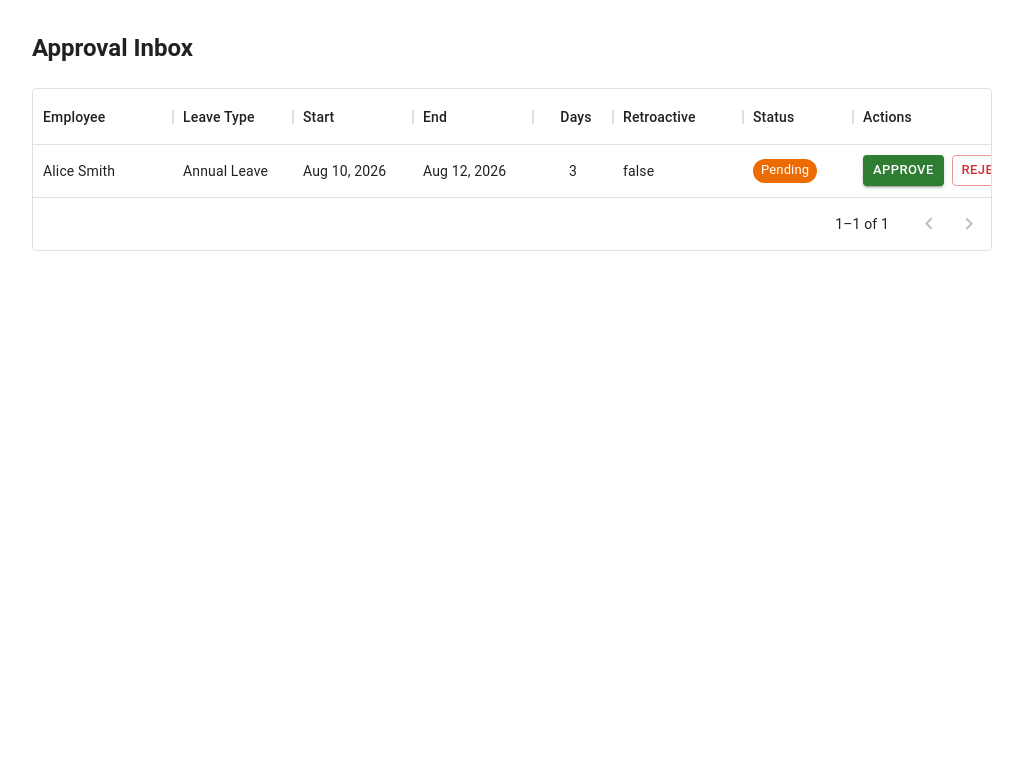
Test: UT-FE-41: Reject dialog requires a comment before submitting › opens reject dialog when Reject button is clicked
Click the button with test id "reject-btn-lr-001".
click(986, 170)  # box [952, 155, 1020, 186]
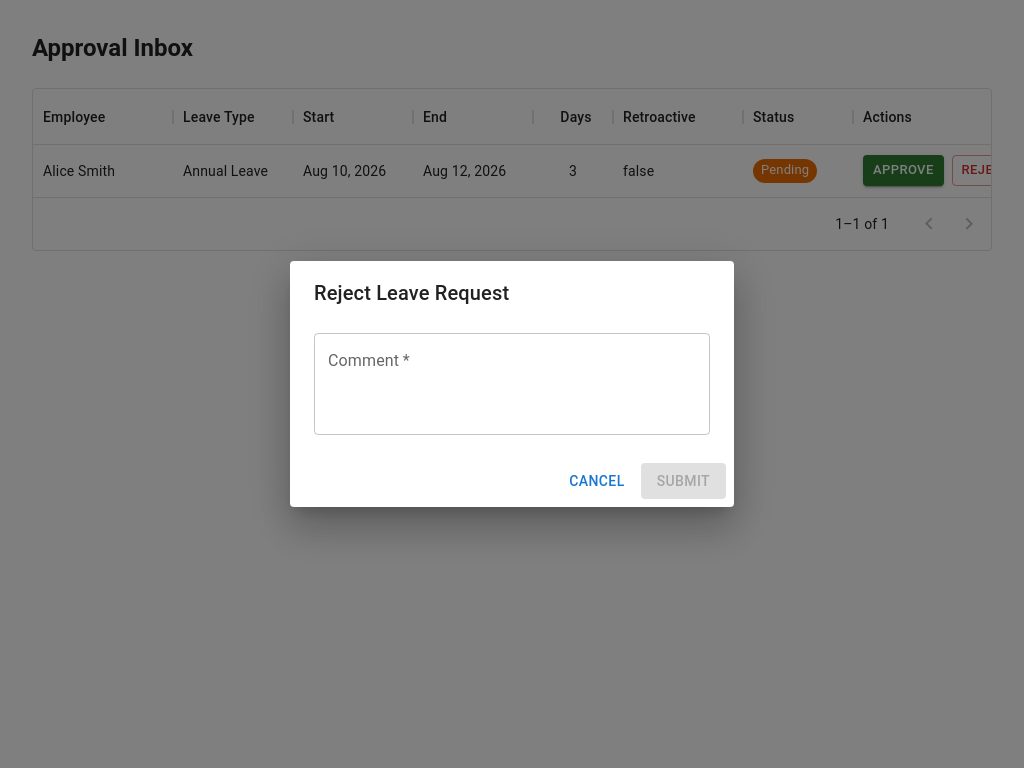
Now the element with test id "reject-dialog" is shown
